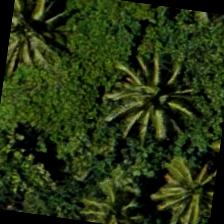Kelapa_Sawit: (106, 45, 208, 147), (142, 141, 220, 223), (67, 161, 166, 223), (5, 0, 73, 77)
